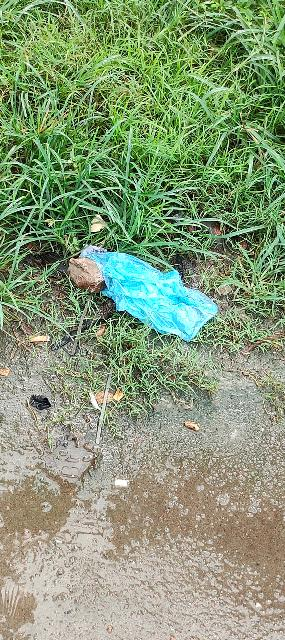polythene: (66, 236, 224, 339)
